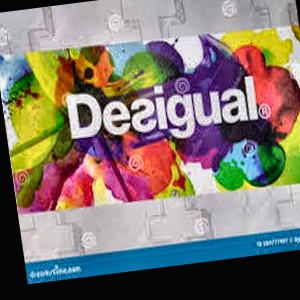desigual: (232, 19, 300, 110)
